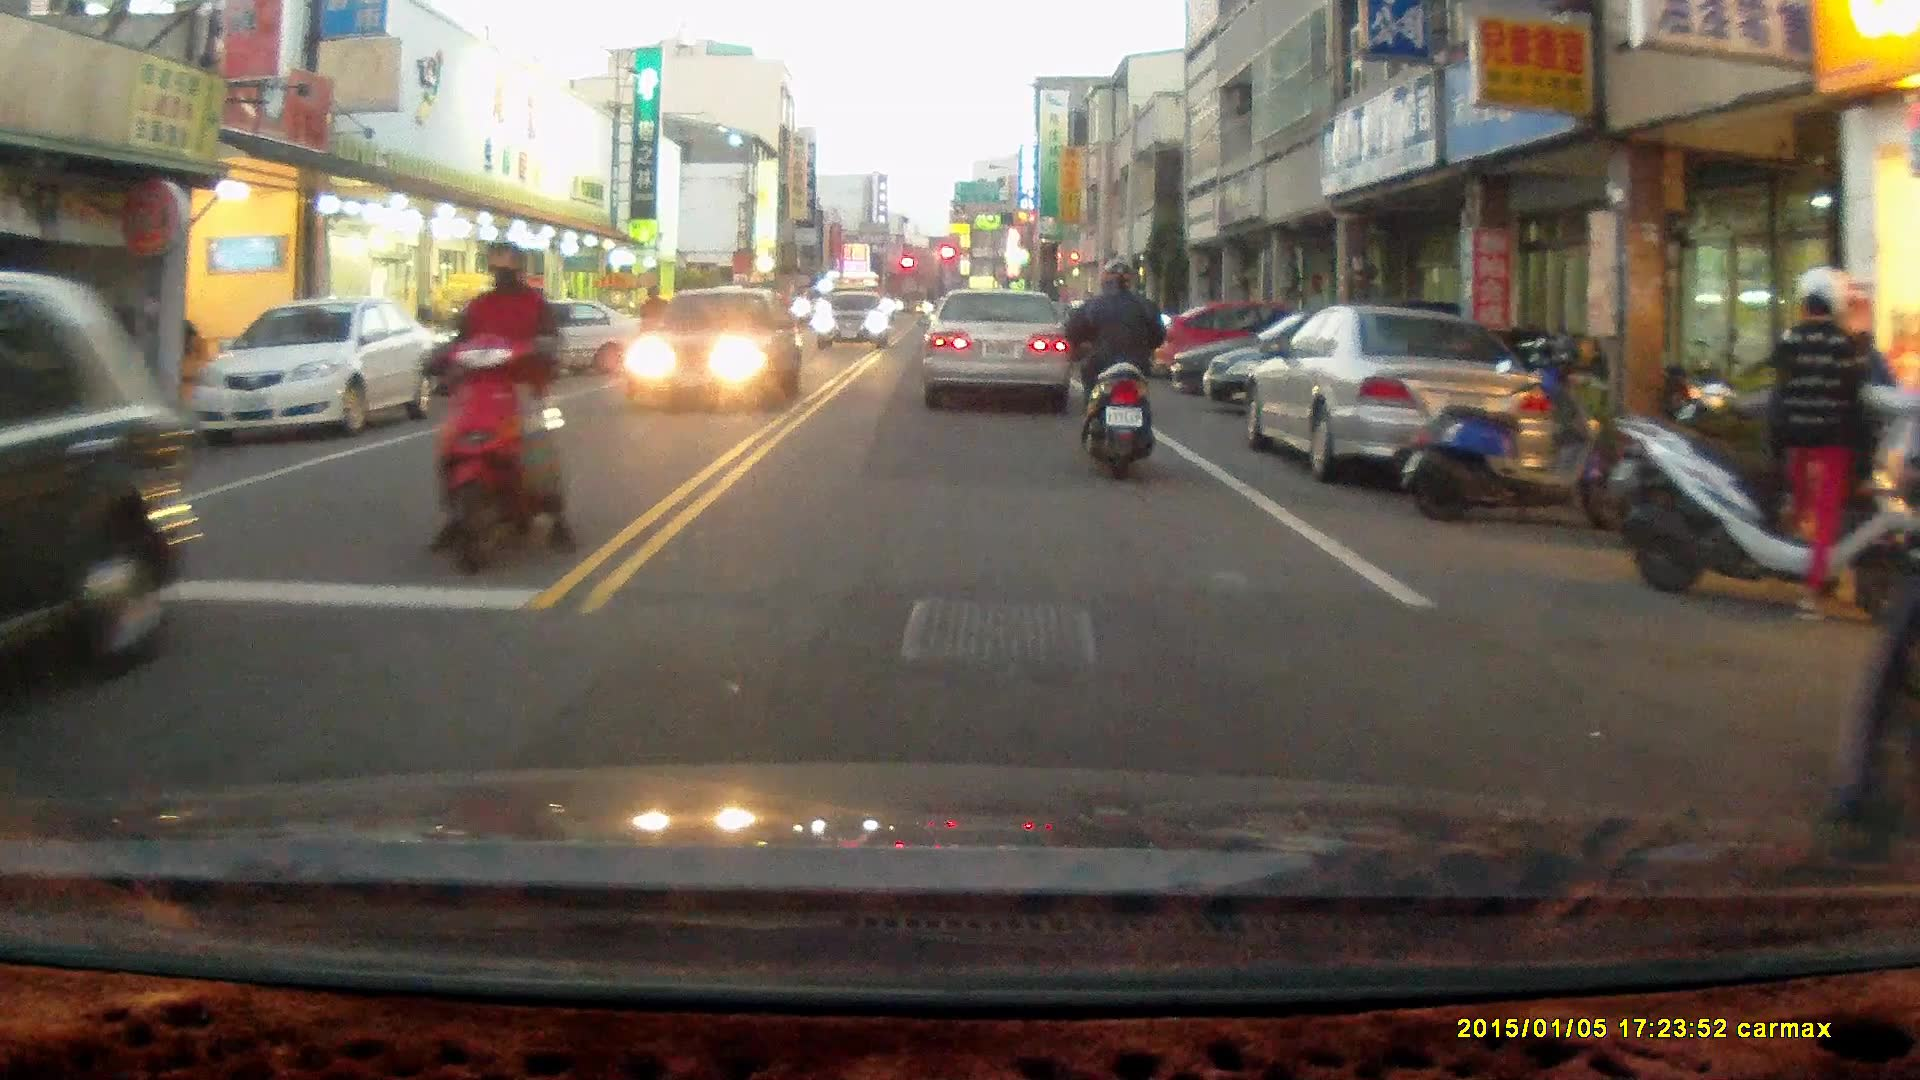pedestrian: (1772, 262, 1871, 621), (636, 283, 667, 352)
rider: (413, 239, 580, 573), (1057, 254, 1171, 478)
vehicle: (1, 286, 204, 702), (1236, 300, 1555, 484), (189, 289, 443, 442), (1177, 308, 1433, 403), (627, 281, 801, 407), (917, 287, 1072, 410), (1149, 294, 1369, 380), (812, 285, 891, 346)
